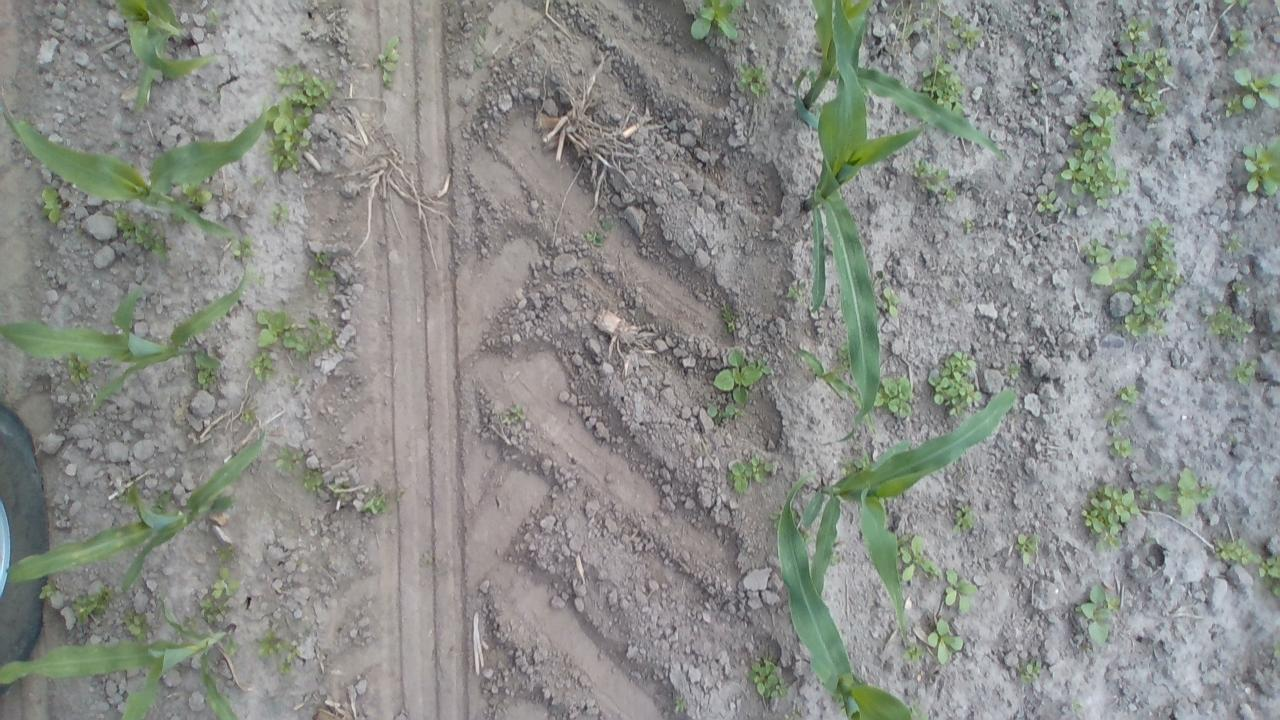Maize: (799, 0, 930, 443), (795, 388, 1016, 648), (7, 428, 264, 595), (0, 92, 288, 236), (0, 266, 249, 413), (790, 0, 1009, 167), (776, 471, 912, 720), (0, 592, 238, 720), (112, 0, 218, 114), (795, 346, 876, 430)
Weeds: (1054, 86, 1130, 210), (1112, 216, 1184, 337), (264, 76, 336, 172), (1115, 46, 1176, 121), (1080, 483, 1140, 550), (928, 351, 982, 417), (112, 208, 171, 264), (1154, 467, 1214, 518), (1075, 584, 1122, 646), (1224, 67, 1280, 118), (921, 54, 965, 118), (712, 349, 762, 404), (1242, 135, 1280, 197), (283, 316, 335, 358), (690, 0, 744, 40), (894, 534, 940, 580), (1205, 302, 1254, 342), (727, 454, 774, 494), (747, 656, 789, 700), (873, 376, 915, 418), (928, 618, 964, 665), (73, 584, 111, 628), (946, 568, 979, 614), (1212, 536, 1262, 566), (1090, 257, 1137, 286), (736, 62, 770, 100), (256, 310, 290, 348), (912, 159, 949, 193), (376, 33, 399, 86), (887, 1, 915, 40), (247, 348, 278, 382), (952, 15, 982, 50), (1120, 14, 1152, 46), (123, 609, 151, 645), (180, 176, 211, 207), (210, 567, 239, 599), (62, 352, 92, 382), (1227, 358, 1259, 386), (40, 185, 64, 222), (1259, 555, 1280, 597), (254, 629, 283, 659), (296, 467, 325, 496), (273, 63, 305, 88), (706, 404, 744, 425), (1014, 534, 1040, 564), (1082, 238, 1112, 264), (275, 446, 305, 472), (195, 360, 219, 391), (840, 452, 870, 476), (1106, 432, 1133, 458), (361, 486, 388, 512), (308, 264, 335, 290), (200, 597, 228, 622), (278, 643, 298, 677), (953, 504, 977, 532), (1018, 660, 1042, 686), (148, 490, 172, 516), (1228, 28, 1250, 56), (499, 404, 526, 425), (1114, 383, 1140, 404), (230, 236, 254, 258), (882, 287, 899, 318), (327, 479, 352, 500), (719, 303, 736, 333), (1036, 190, 1059, 212), (268, 202, 290, 225), (902, 642, 926, 663), (908, 696, 929, 720), (1104, 406, 1128, 426), (837, 341, 852, 371), (1222, 236, 1245, 254), (787, 282, 807, 302), (748, 358, 771, 375), (239, 408, 257, 426), (471, 43, 483, 68), (944, 38, 961, 55), (769, 509, 782, 530), (941, 185, 957, 202), (38, 582, 55, 598), (586, 231, 604, 246), (1005, 362, 1021, 378), (781, 708, 800, 720), (206, 11, 220, 27), (248, 272, 264, 286), (314, 251, 331, 264), (1232, 282, 1247, 296), (1070, 698, 1083, 714), (674, 696, 686, 712), (962, 218, 974, 234), (220, 546, 232, 562), (600, 218, 614, 231), (828, 550, 839, 566), (800, 530, 812, 544), (918, 16, 932, 28), (1140, 488, 1152, 501), (1273, 640, 1280, 659), (118, 493, 130, 504), (185, 618, 198, 628), (1238, 0, 1253, 8), (289, 376, 298, 386), (395, 490, 403, 501), (479, 24, 486, 36), (252, 176, 262, 184), (1031, 82, 1042, 89), (76, 229, 83, 237), (1222, 0, 1235, 4)
